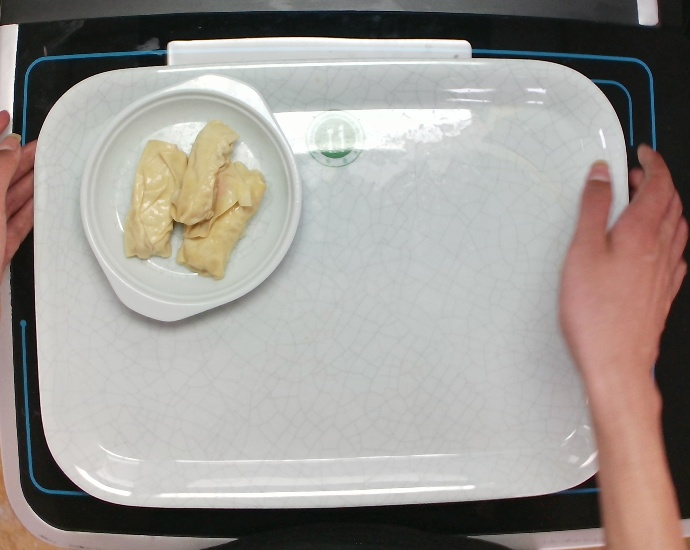JYsf-Shuang_Er_Pan: (76, 69, 300, 323)
